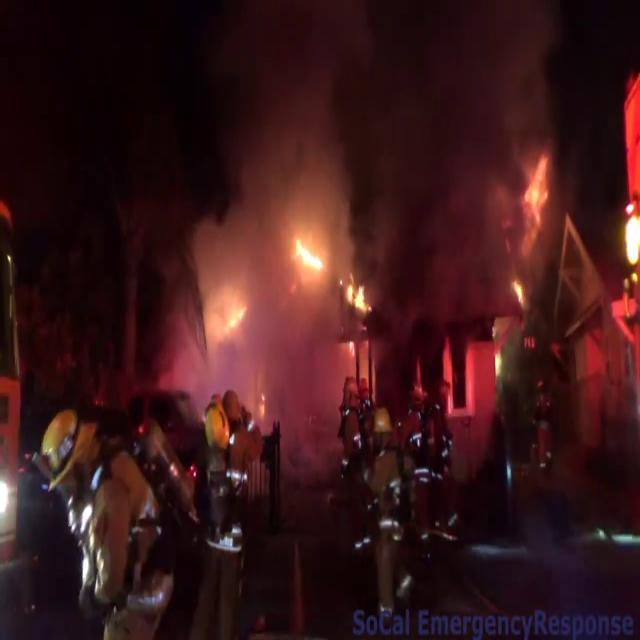Fire: (291, 223, 327, 286)
Smoke: (165, 0, 570, 340)
